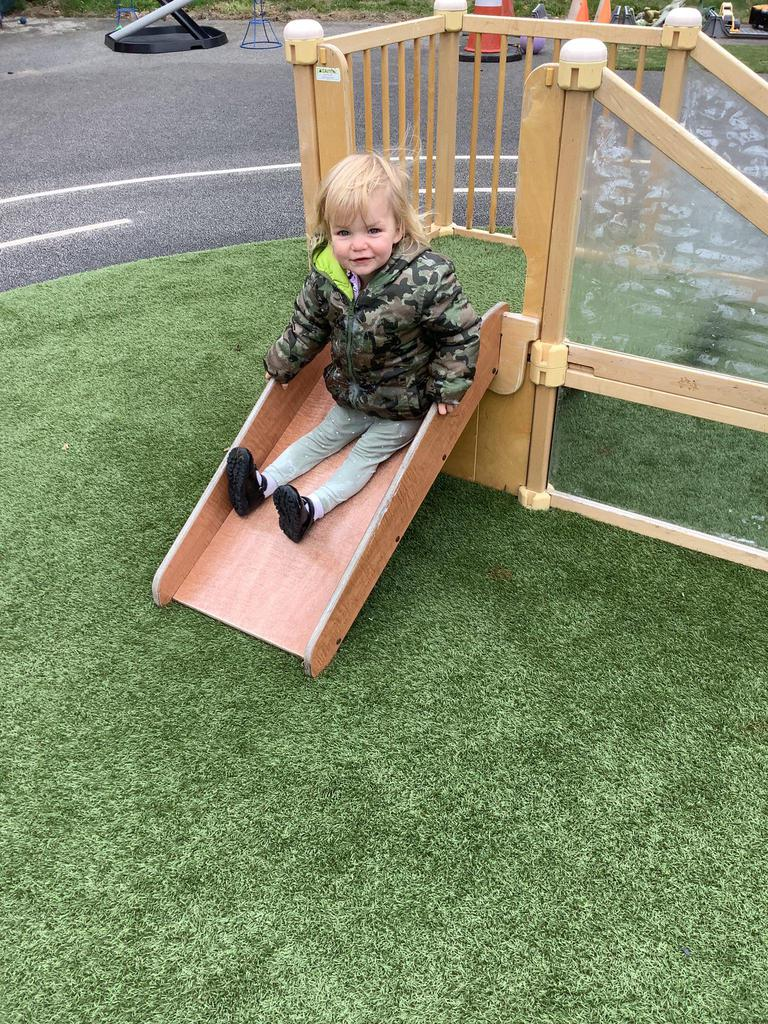child: (200, 143, 485, 546)
